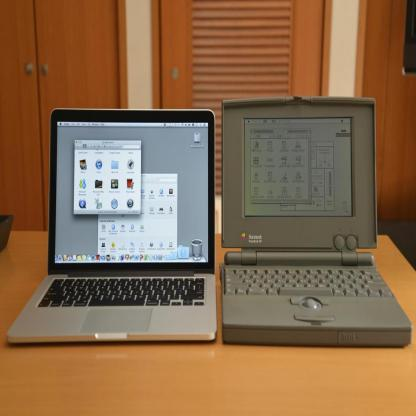board: (5, 106, 216, 345), (219, 95, 414, 345)
